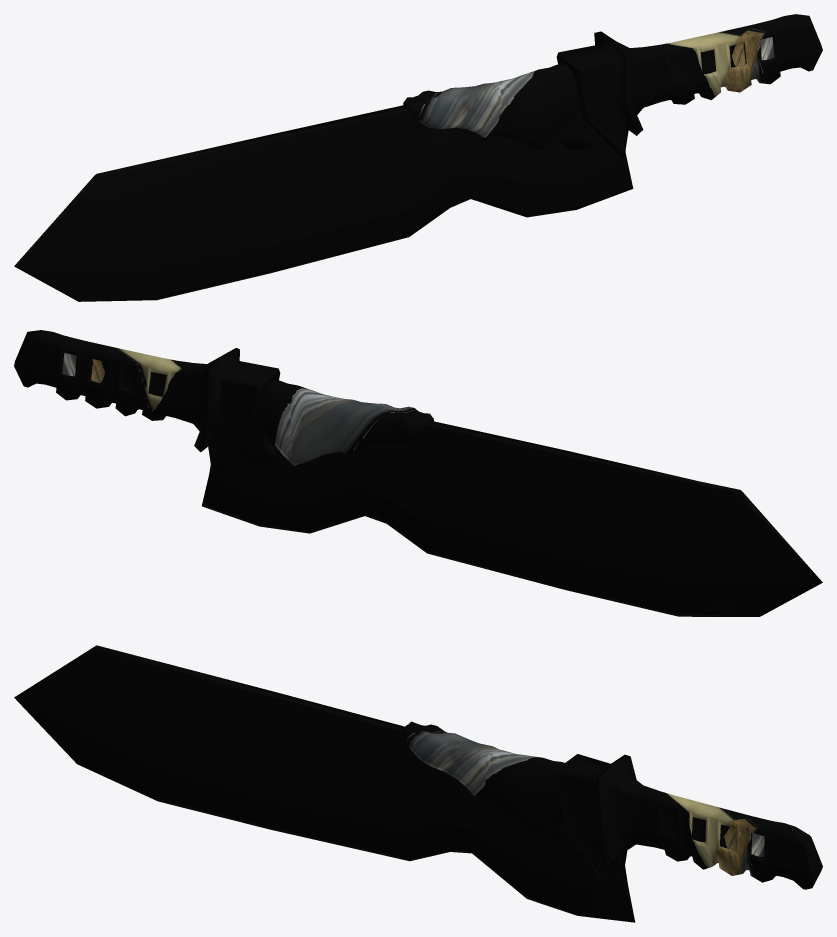
File: AncientWarriorBlade.FBX
3 views of the same model, one above another, from view 1: azimuth 30°, elevation 25°; view 2: azimuth 150°, elevation 25°; view 3: azimuth 330°, elevation 25° (orthographic).
Parts seen in each view (by area): view 1: Ancient_Sword_Low; view 2: Ancient_Sword_Low; view 3: Ancient_Sword_Low.
Part boxes in pixels (bbox=[...]): Ancient_Sword_Low: bbox=[14, 14, 822, 301]; Ancient_Sword_Low: bbox=[14, 330, 822, 616]; Ancient_Sword_Low: bbox=[14, 645, 822, 922].
Size of the model in its own units: 133 by 8.77 by 25.18.
